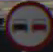No overtake: (5, 6, 50, 44)
